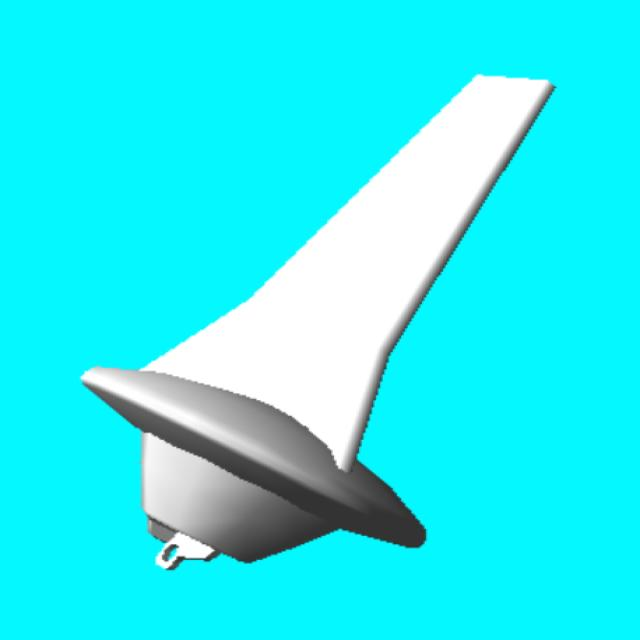WhiteBuoy: (83, 76, 553, 568)
